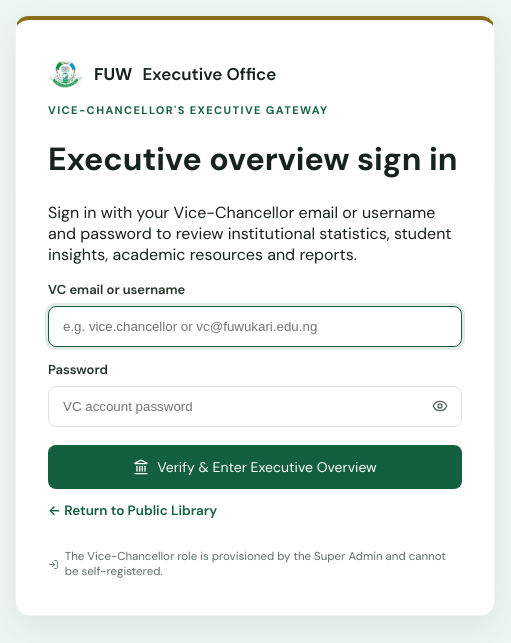
VC executive gateway (VcLoginPage) › prompts for a second factor when MFA is required
The image size is (511, 643).
Type "vice.chancellor" into the field with placeholder "e.g. vice.chancellor or vc@fuwukari.edu.ng" at (255, 326), box [48,306,462,347]
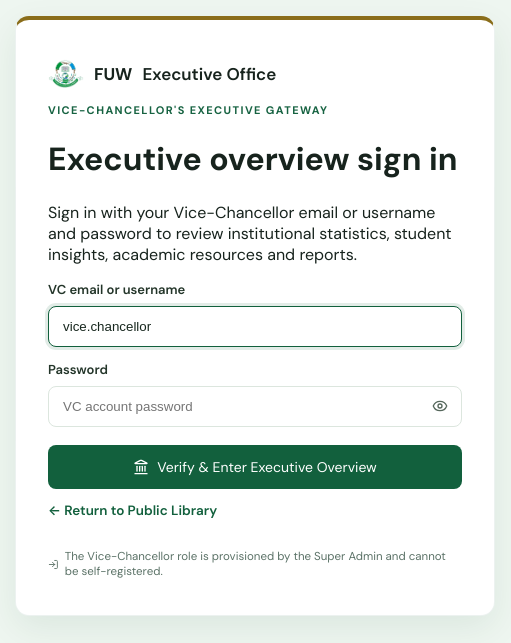
Type "password" into the password field with placeholder "VC account password" at (255, 406), box [48,386,462,427]
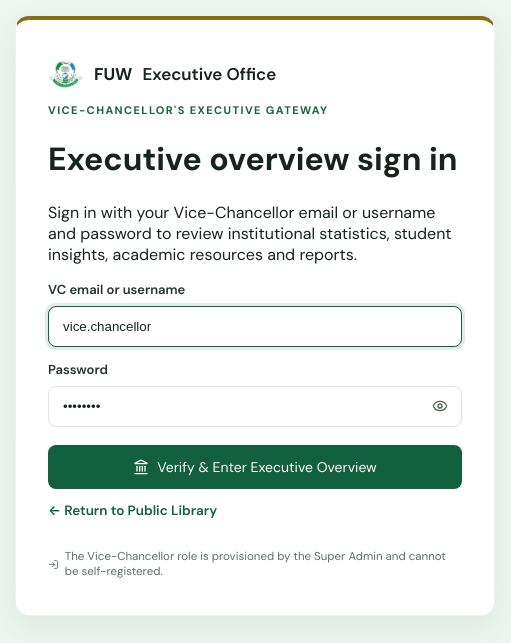
Click the button "Verify & Enter Executive Overview" at (255, 467), box [48,445,462,489]
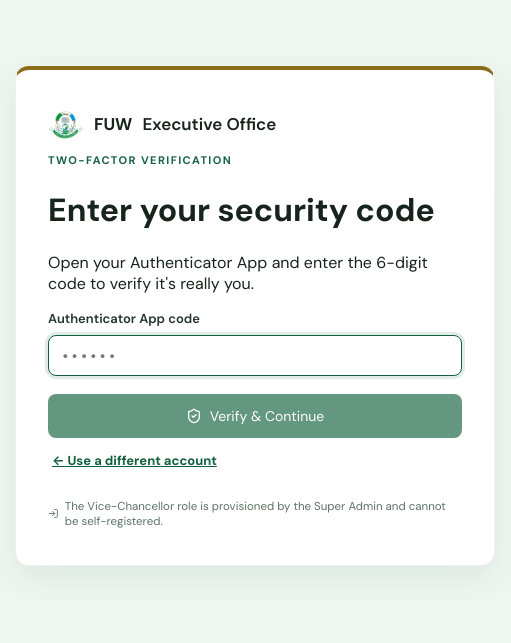
Now the heading "Enter your security code" is shown, box [48,189,462,231]
